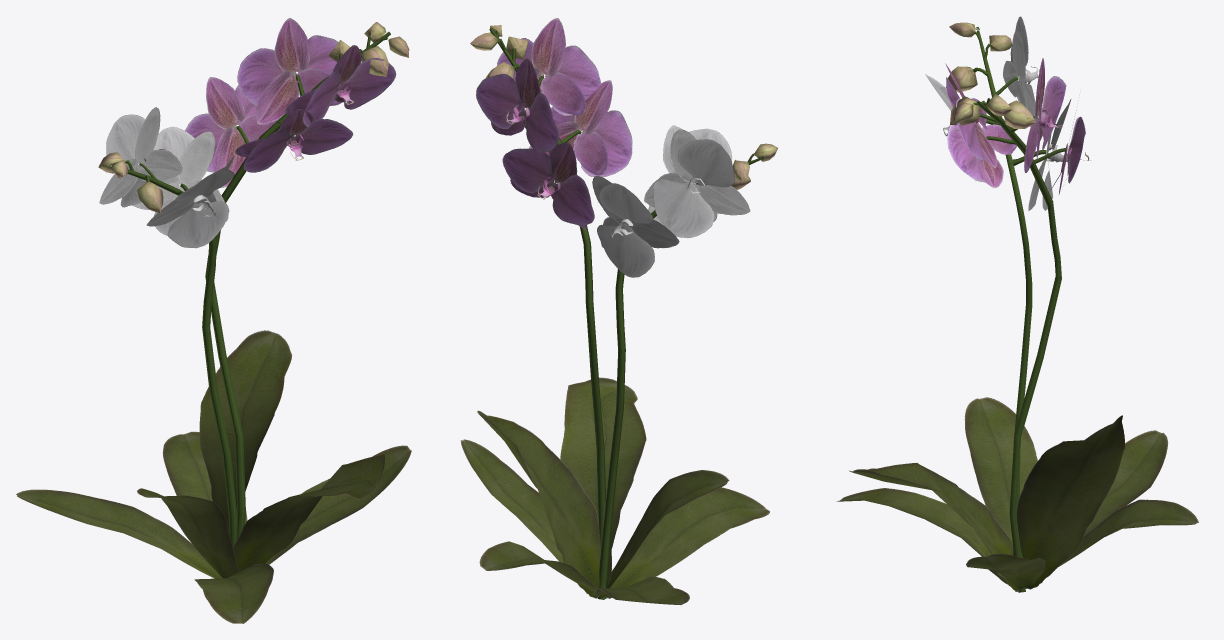
File: BulbophyllumPhalaenopsis.glb
3 renders of one model, left to right at view 1: azimuth 30°, elevation 25°; view 2: azimuth 150°, elevation 25°; view 3: azimuth 270°, elevation 25°, orthographic. The views are drawn at different scales.
Parts seen in each view (by area): view 1: Orchid__Realistic_LOD3; view 2: Orchid__Realistic_LOD3; view 3: Orchid__Realistic_LOD3.
Boxes of the visible parts, box(x1,y1,x2,y2) form: Orchid__Realistic_LOD3: box(16, 18, 411, 623); Orchid__Realistic_LOD3: box(460, 18, 777, 605); Orchid__Realistic_LOD3: box(836, 16, 1198, 592).
Size of the model in its own units: 0.4359 by 0.7254 by 0.4398.
1 material, 1 textured.
